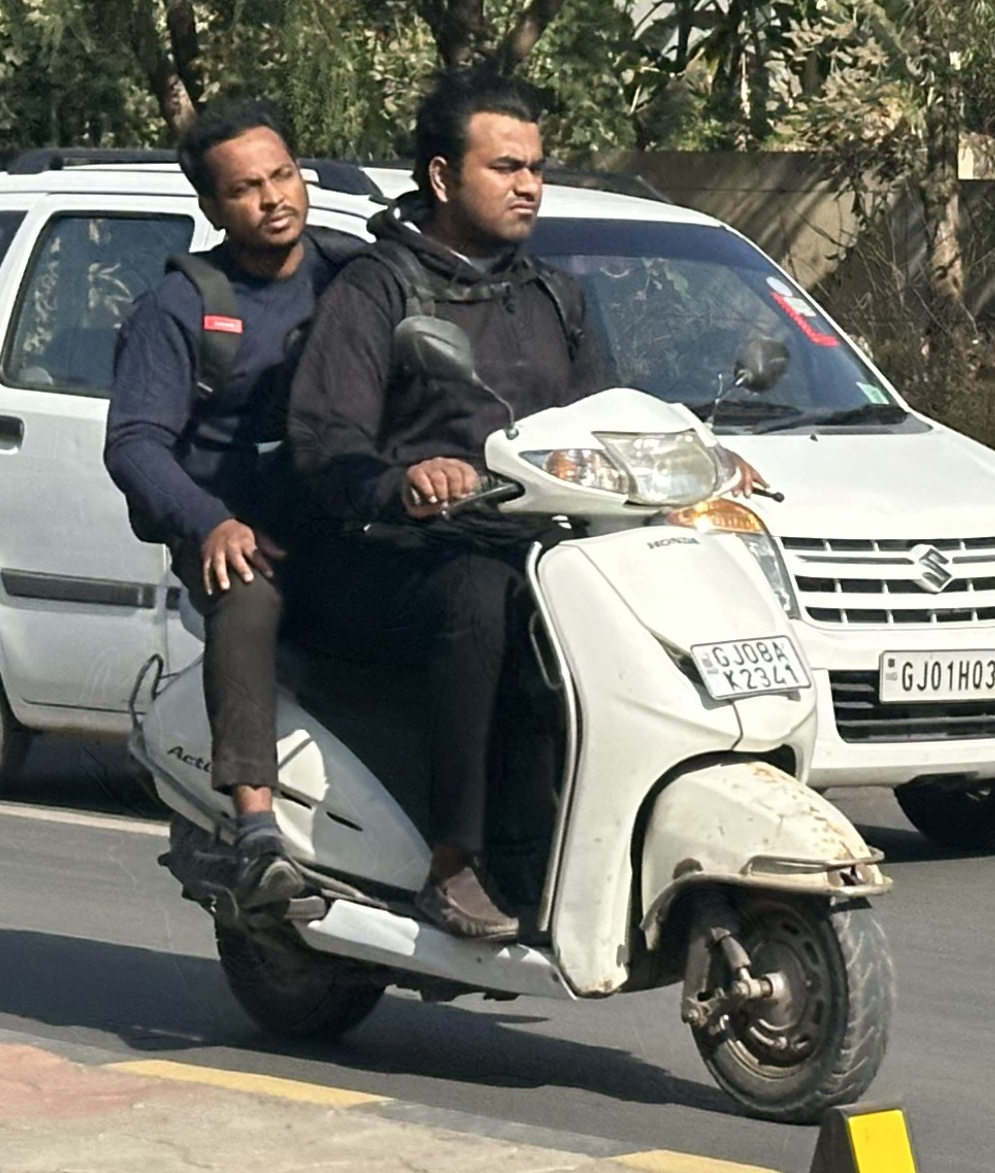BikeWithRider: (87, 52, 918, 1139)
NoHelmet: (389, 60, 566, 255), (161, 90, 327, 269)
